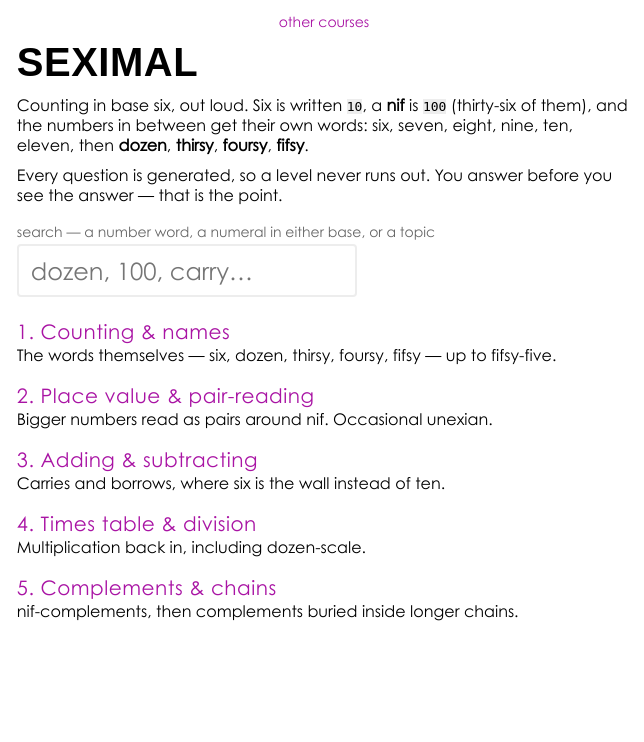
it: seximal search › "nif" names the two levels that drill it without saying so, and links them
Type "nif" into the field labelled "search — a number word, a numeral in either base, or a topic" at (187, 270), box [17, 244, 357, 297]
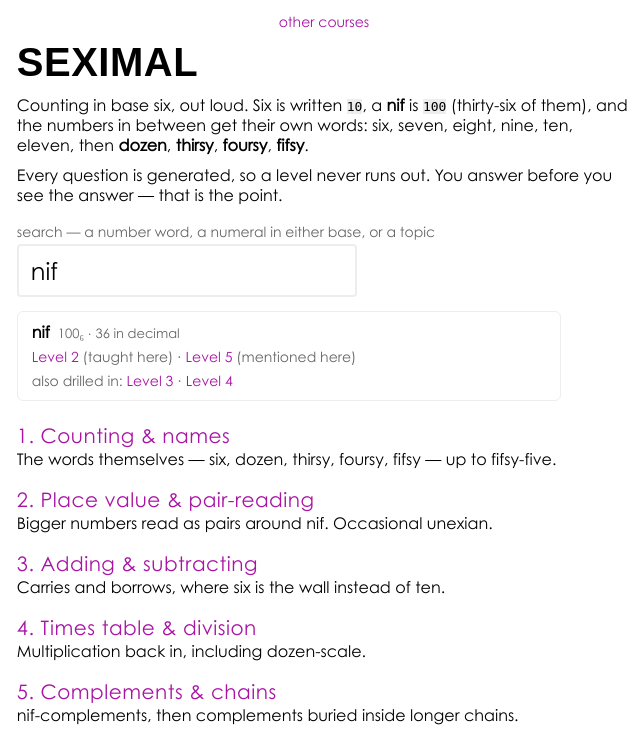
expect the element with class "tp__search-levels" reads "Level 2 (taught here) · Level 5 (mentioned here)": met, box [32, 348, 356, 365]
expect the element with class "tp__search-levels" reads "also drilled in: Level 3 · Level 4": met, box [32, 372, 233, 389]
